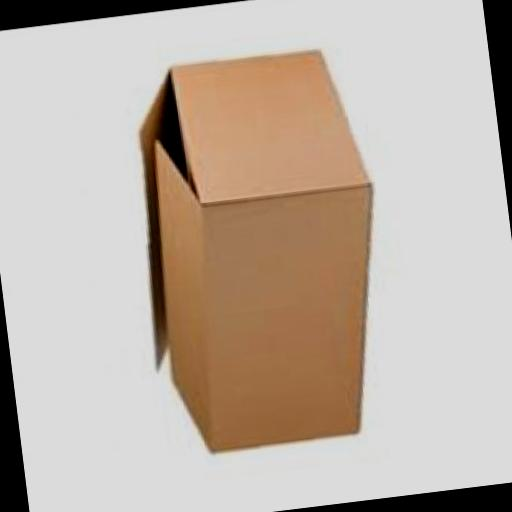cardboard: (117, 38, 402, 456)
